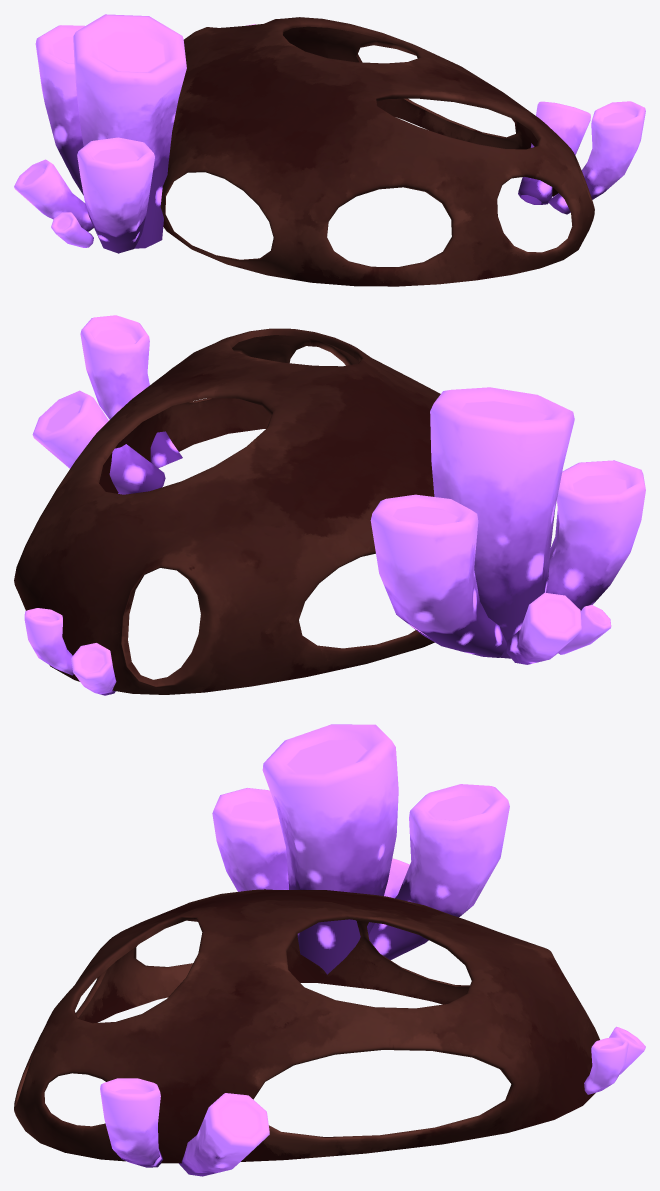
File: pedra_2.fbx
3 renders of one model, top to bottom at view 1: azimuth 30°, elevation 25°; view 2: azimuth 150°, elevation 25°; view 3: azimuth 270°, elevation 25°, orthographic. The views are drawn at different scales.
Parts seen in each view (by area): view 1: pedra_2; view 2: pedra_2; view 3: pedra_2.
Boxes of the visible parts, x1,y1,x2,y2 form: pedra_2: (14,14,645,286); pedra_2: (14,315,645,695); pedra_2: (14,724,645,1176).
Size of the model in its own units: 153 by 61.55 by 145.
